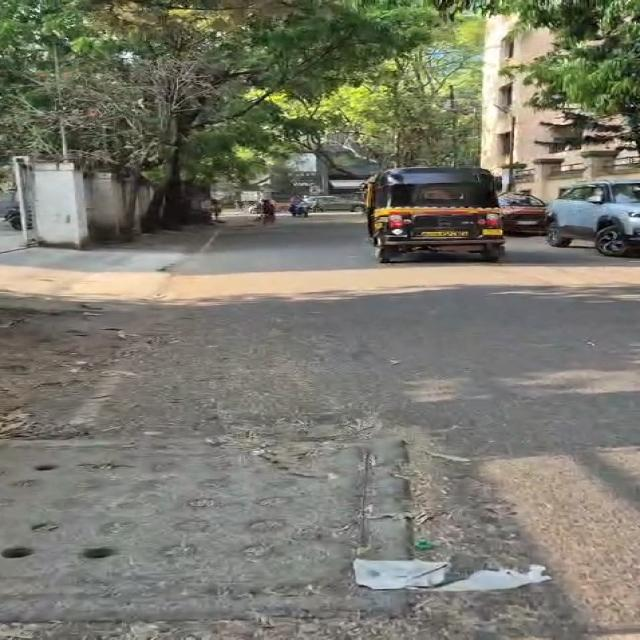auto: (366, 167, 504, 263), (547, 179, 639, 256), (499, 193, 547, 234), (304, 196, 365, 213), (0, 192, 22, 230), (0, 192, 18, 218), (274, 199, 289, 213)
bench: (0, 434, 425, 613), (0, 546, 33, 558), (82, 547, 116, 558)
bike: (53, 44, 68, 160), (449, 85, 457, 167), (507, 115, 515, 191)
